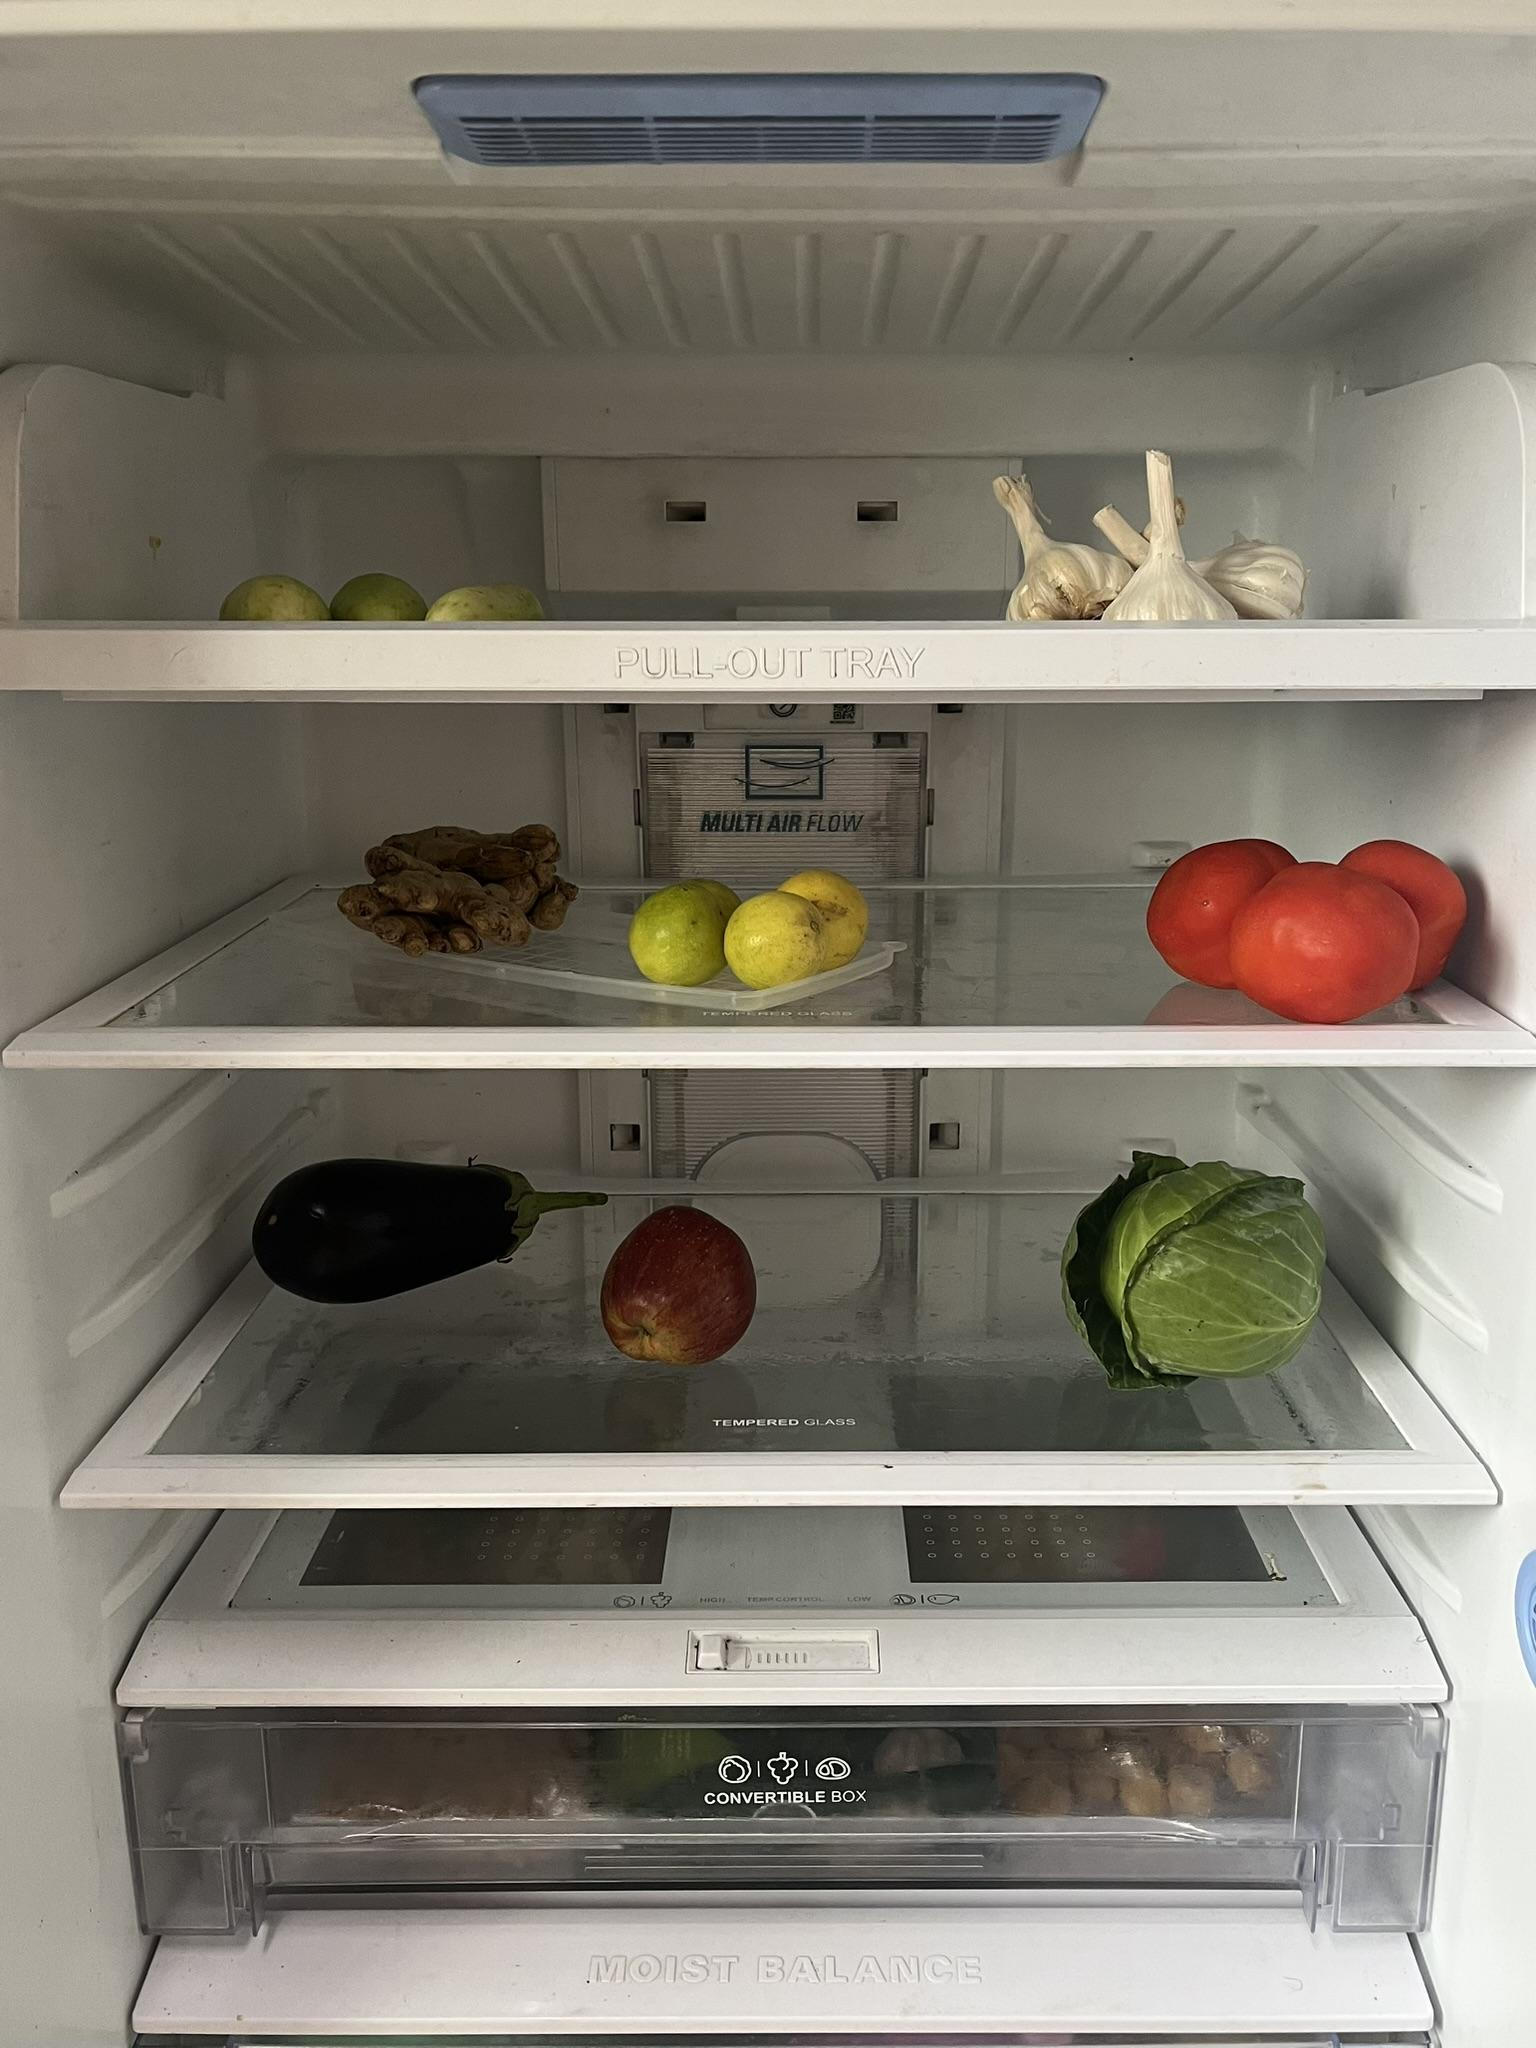apple: (592, 1201, 757, 1371)
bringal: (248, 1148, 615, 1305)
cabbage: (1058, 1143, 1334, 1390)
cucumber: (218, 564, 550, 624)
garlic: (979, 453, 1323, 616)
ginger: (336, 819, 586, 964)
lemon: (626, 872, 871, 984)
tomato: (1144, 834, 1468, 1026)
